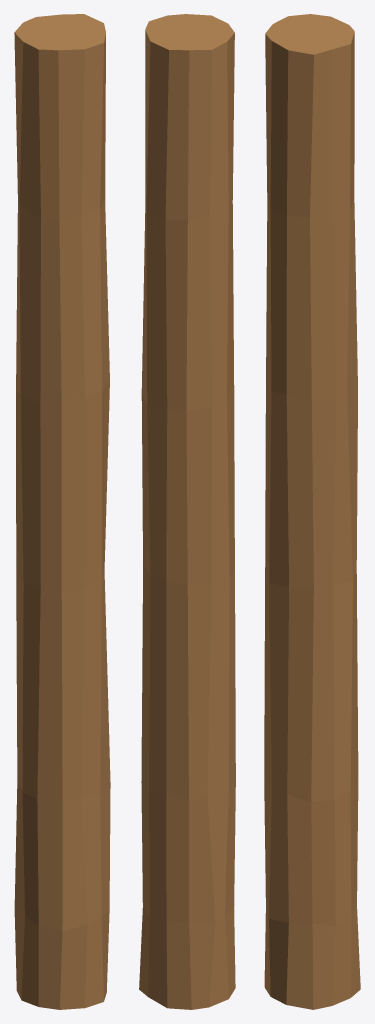
The model's file is Mast.fbx.
The picture shows the model from 3 angles, left to right: view 1: azimuth 30°, elevation 25°; view 2: azimuth 150°, elevation 25°; view 3: azimuth 330°, elevation 25°; orthographic projection.
Visible parts, largest first — view 1: Mast; view 2: Mast; view 3: Mast.
Boxes of the visible parts, x1,y1,x2,y2 form: Mast: (14, 14, 110, 1009); Mast: (139, 14, 235, 1009); Mast: (264, 14, 360, 1009).
Bounding box in the file's own units: 207 × 207 × 2313.
